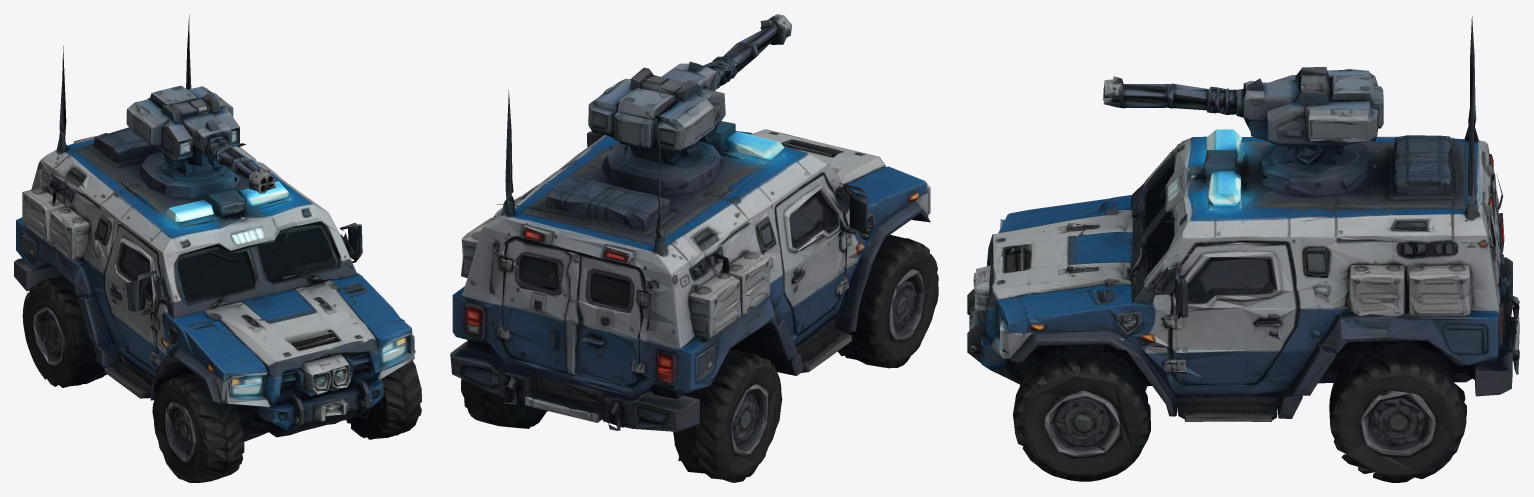
Rendered from citadel-vehicle.glb.
The picture shows the model from 3 angles, left to right: view 1: azimuth 30°, elevation 25°; view 2: azimuth 150°, elevation 25°; view 3: azimuth 270°, elevation 25°; orthographic projection. The views are drawn at different scales.
Parts seen in each view (by area): view 1: geometry_0; view 2: geometry_0; view 3: geometry_0.
Boxes of the visible parts, x1=… form: geometry_0: x1=14, y1=15, x2=421, y2=482; geometry_0: x1=450, y1=14, x2=938, y2=482; geometry_0: x1=967, y1=16, x2=1519, y2=482.
Size of the model in its own units: 0.5896 by 0.7406 by 0.9999.
1 material, 1 textured.
